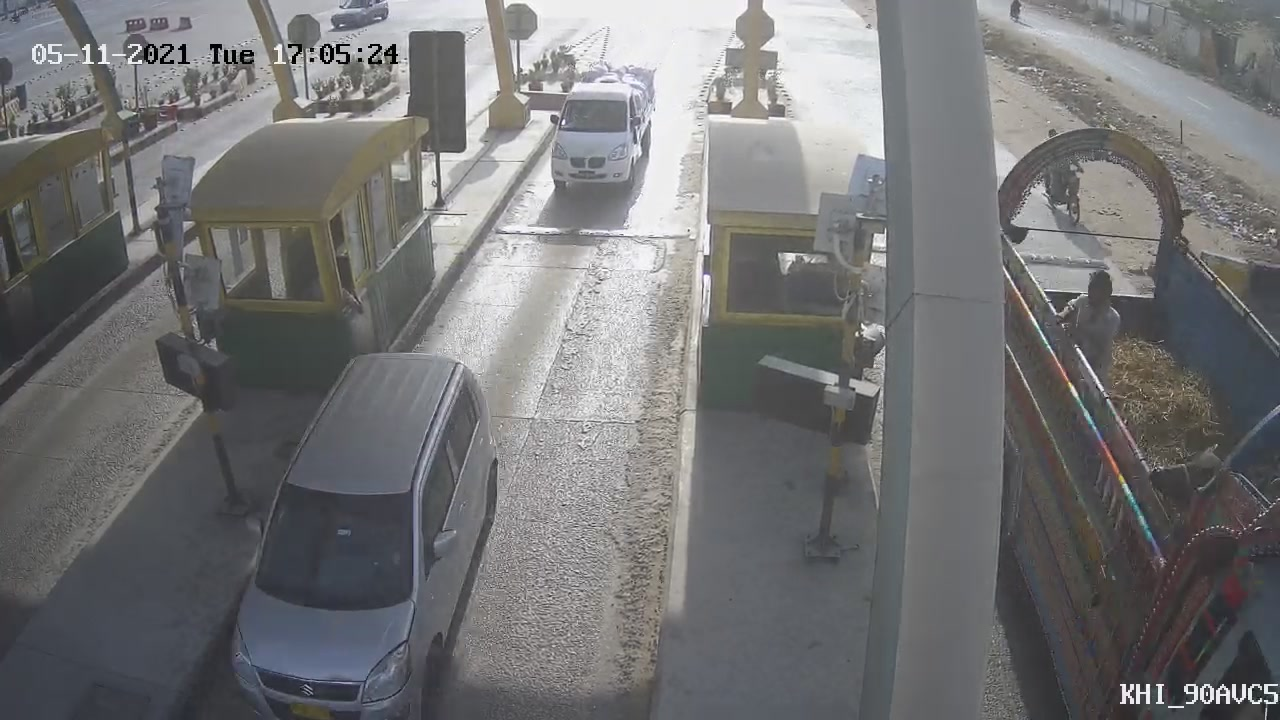F2: (526, 51, 673, 212)
